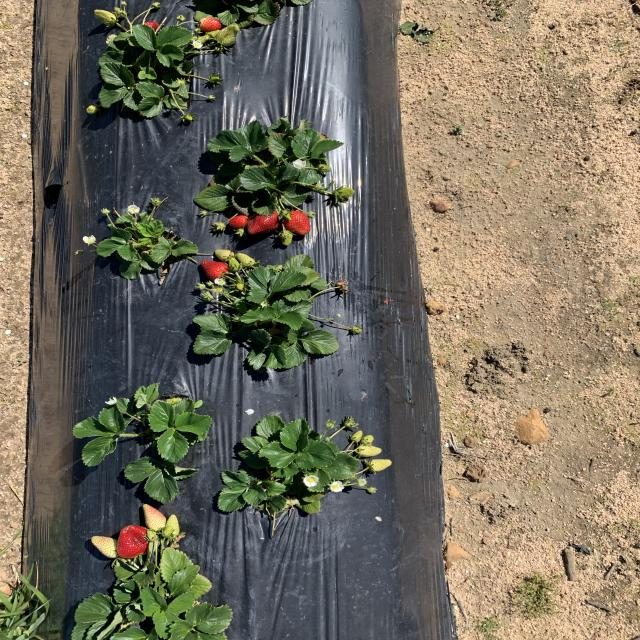unripe: (117, 524, 151, 559), (244, 208, 282, 235), (283, 209, 313, 236), (199, 260, 231, 279), (198, 18, 222, 30), (230, 214, 250, 228), (141, 21, 161, 30)
